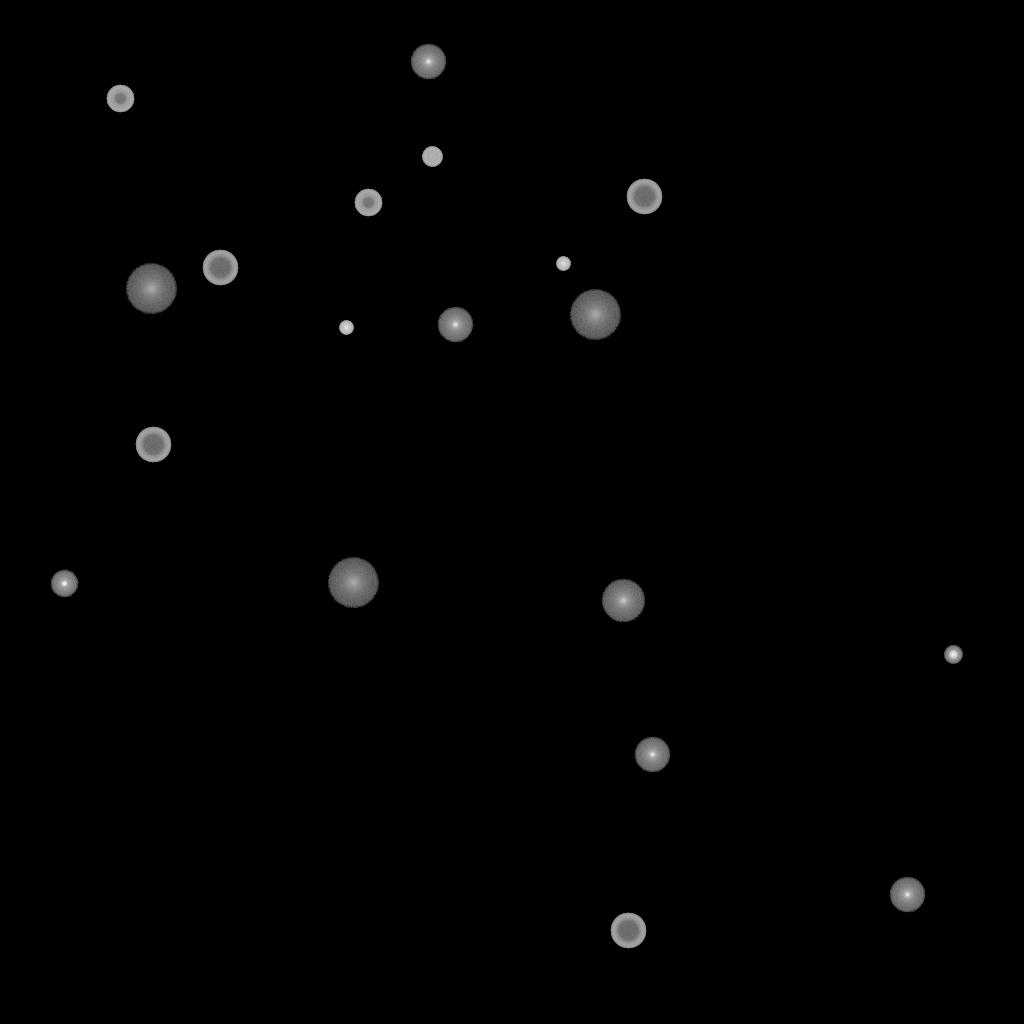depth:-10: (50, 570, 78, 598)
depth:-20: (944, 646, 962, 664)
depth:-30: (556, 257, 570, 271), (339, 321, 353, 335)
depth:-40: (422, 147, 442, 167)
depth:-50: (106, 85, 134, 113), (354, 189, 382, 217)
depth:-60: (135, 427, 171, 463), (610, 913, 646, 949), (202, 250, 238, 286), (626, 179, 662, 215)
depth:0: (410, 44, 446, 80), (634, 737, 670, 773), (889, 877, 925, 913), (437, 307, 473, 343)
depth:10: (601, 579, 645, 623)
depth:20: (327, 558, 379, 608), (569, 290, 621, 340), (125, 264, 177, 314)
